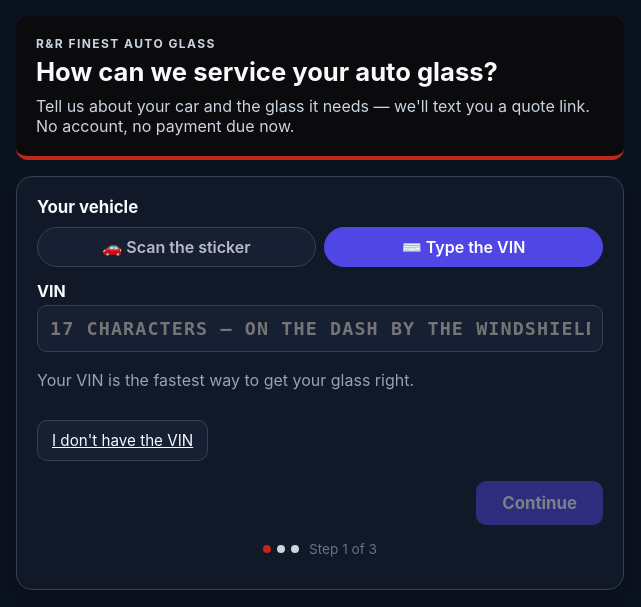
Test: public intake page (QR front door) › Back is a quiet affordance that returns to the previous card with state kept
The width and height of the screenshot is (641, 607).
Step 1. Replace the text in the field labelled "VIN" with "1HGCM82633A004352" → [320, 328], box [37,305,603,352]
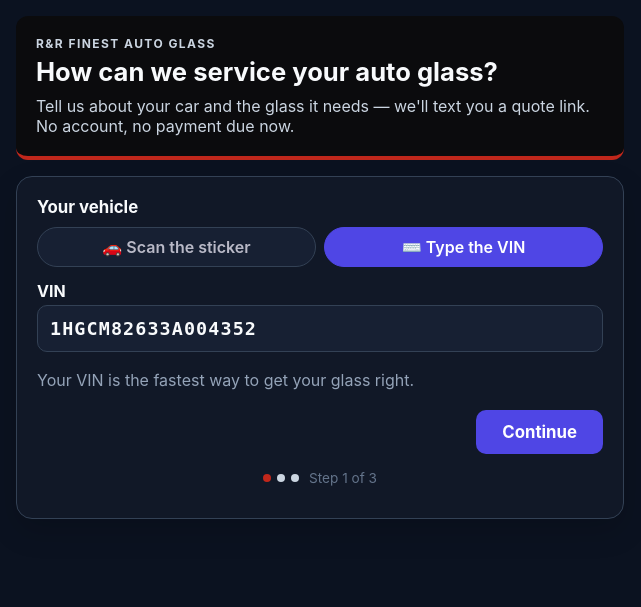
Step 2. Click the button "Continue" → [540, 432], box [476,410,603,454]
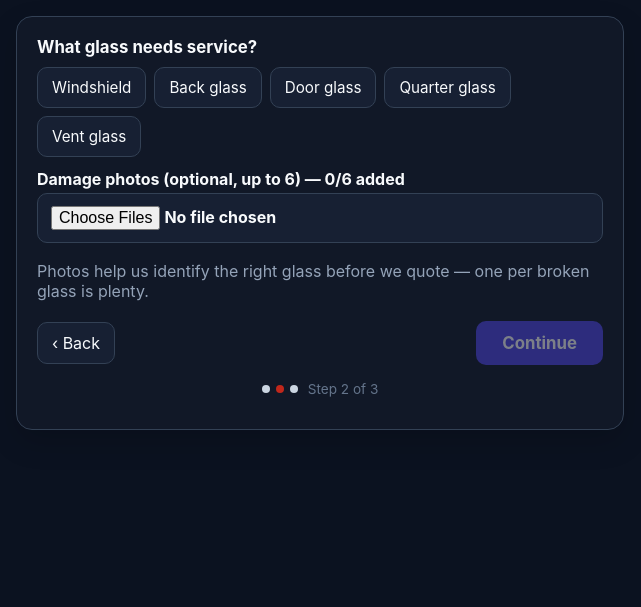
Now the text "Step 2 of 3" is shown, box [308,381,378,397]
Step 3. Click the button "‹ Back" → [76, 343], box [37,322,115,364]
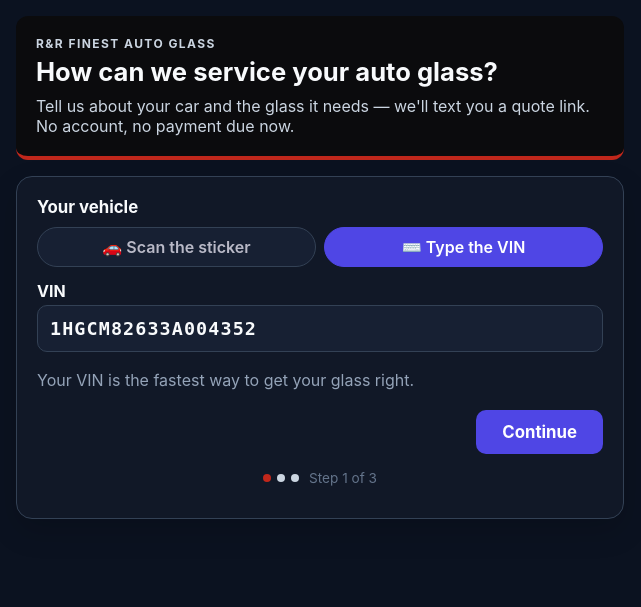
Now the text "Step 1 of 3" is shown, box [309,470,377,486]
Now the field labelled "VIN" holds "1HGCM82633A004352", box [37,305,603,352]
